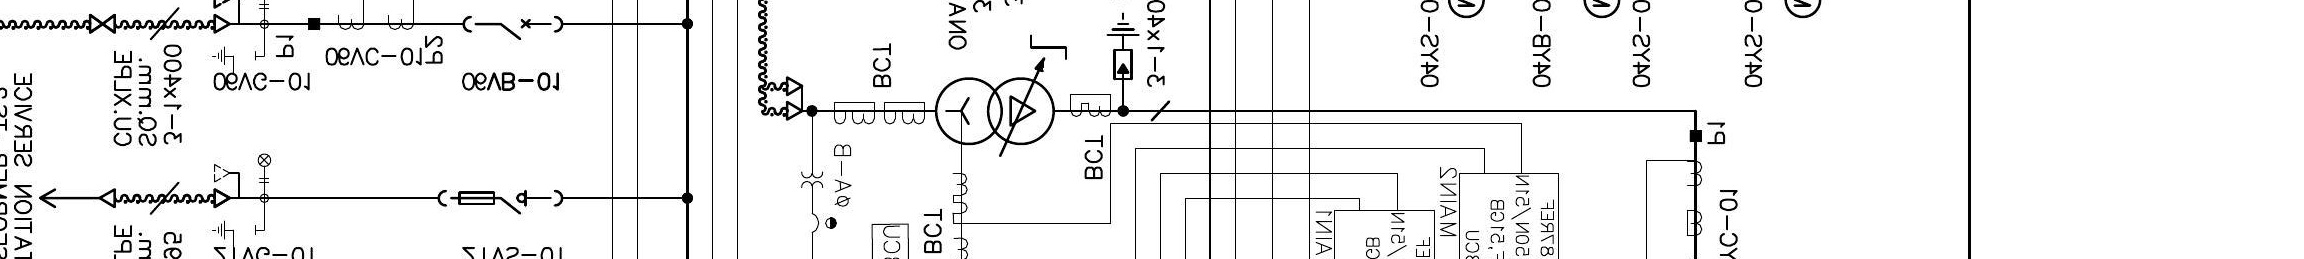11522_tx_dyn1: (935, 77, 1056, 146)
115_la: (1106, 12, 1140, 81)
22_breaker: (461, 15, 564, 41)
22_ds: (436, 188, 564, 215)
22_gs: (212, 221, 257, 249), (212, 46, 257, 74)
22_ll: (257, 153, 272, 184)
terminator_double: (785, 75, 804, 122)
terminator_single: (98, 187, 118, 209)
terminator_splicing_kits: (88, 13, 116, 34)
terminator_w_future: (213, 162, 242, 209)
